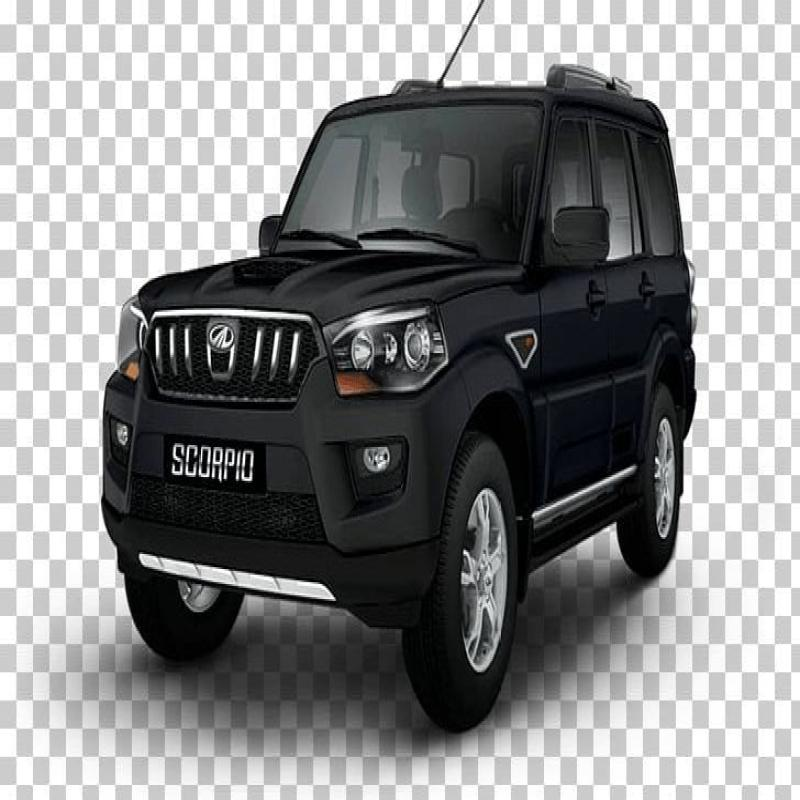car: (65, 50, 710, 720)
